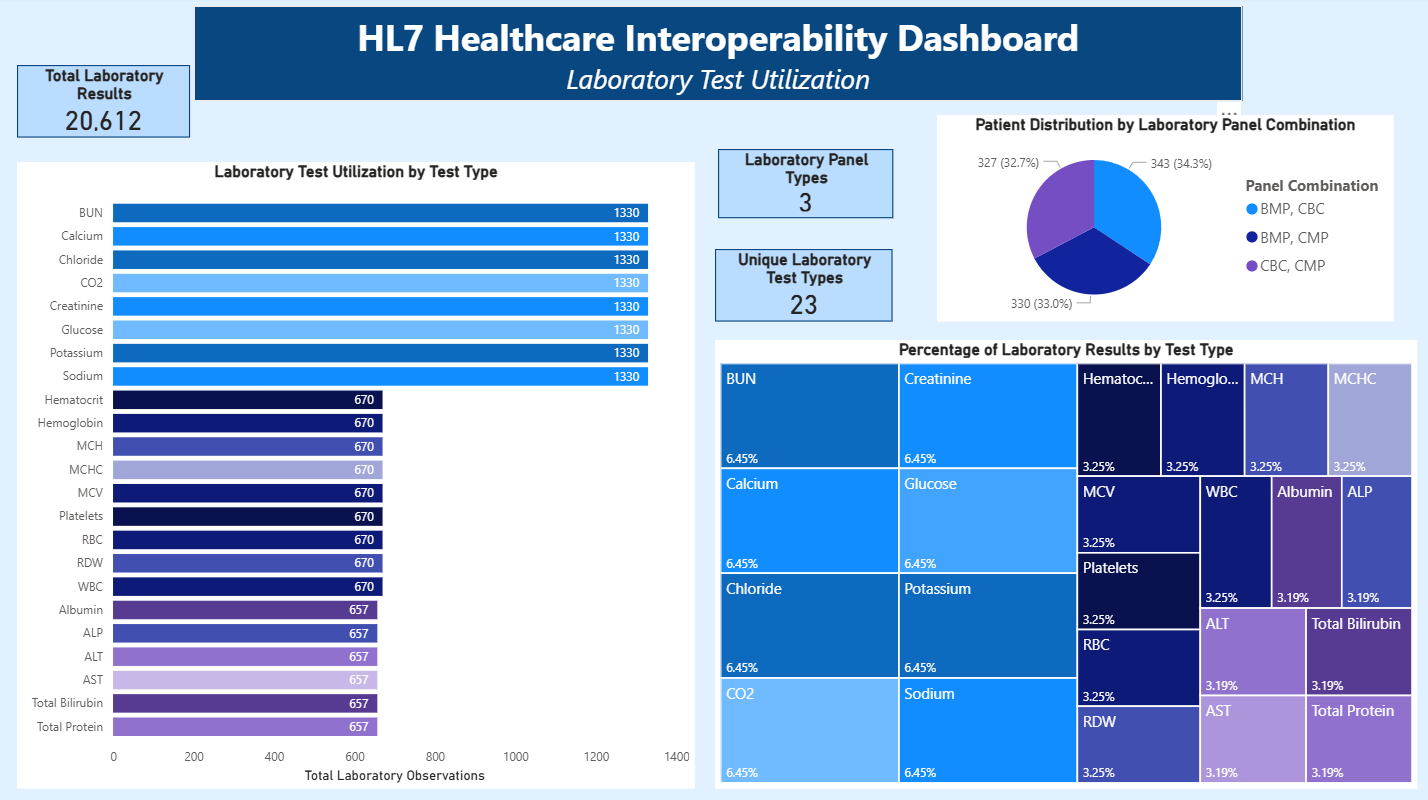

The dashboard page shown, as its layout file describes it:
{"tool":"powerbi","page":{"name":"Laboratory Test Utilization ","canvas":[1280,720],"ordinal":1},"visuals":[{"type":"clusteredBarChart","title":"Laboratory Test Utilization by Test Type","fields":{"Category":["public vw_test_utilization.test_name"],"Y":["Sum(public vw_test_utilization.total_observations)"]},"box":[15.2,148,607.3,560.5],"z":0},{"type":"treemap","title":"Percentage of Laboratory Results by Test Type","fields":{"Group":["public vw_test_utilization.test_name"],"Values":["Sum(public vw_test_utilization.result_percentage)"]},"box":[640,306.9,629.1,401.6],"z":1000},{"type":"textbox","box":[173.6,8.3,938.7,85],"z":2000},{"type":"pieChart","title":"Patient Distribution by Laboratory Panel Combination","fields":{"Category":["public vw_patient_utilization.panel_combination"],"Y":["Count(public vw_patient_utilization.patient_id)"]},"box":[839.2,105.6,409.3,185],"z":3000},{"type":"card","title":"Total Laboratory Results","fields":{"Values":["Sum(public vw_patient_utilization.total_results)"]},"box":[15.2,61,154.6,65.3],"z":4000},{"type":"card","title":"Unique Laboratory Test Types","fields":{"Values":["Count(public vw_test_utilization.test_name)"]},"box":[640,225.3,158.9,65.3],"z":5000},{"type":"card","title":"Laboratory Panel Types","fields":{"Values":["Count(public vw_panel_volume.panel_name)"]},"box":[643.3,136.1,156.7,62],"z":6000}]}

Visuals, with their boxes in screenshot pixels (x1, y1, x2, y2), scaled from the page's 1280x720 canvas onto the 1428x800 screenshot:
"Laboratory Test Utilization by Test Type" clusteredBarChart: bbox=(17, 164, 694, 787)
"Percentage of Laboratory Results by Test Type" treemap: bbox=(714, 341, 1416, 787)
textbox: bbox=(194, 9, 1241, 104)
"Patient Distribution by Laboratory Panel Combination" pieChart: bbox=(936, 117, 1393, 323)
"Total Laboratory Results" card: bbox=(17, 68, 189, 140)
"Unique Laboratory Test Types" card: bbox=(714, 250, 891, 323)
"Laboratory Panel Types" card: bbox=(718, 151, 893, 220)
